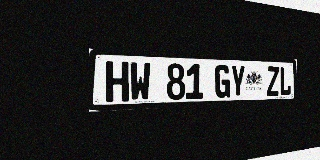1: (186, 64, 203, 99)
8: (167, 63, 185, 100)
G: (215, 65, 230, 98)
H: (106, 61, 129, 102)
L: (279, 67, 291, 96)
W: (130, 62, 151, 101)
Y: (231, 65, 245, 97)
Z: (267, 66, 279, 96)
